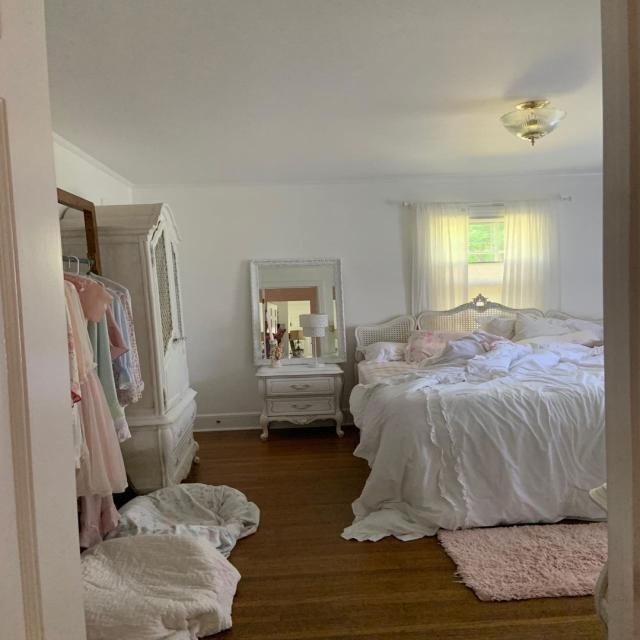bed: (346, 299, 602, 530)
